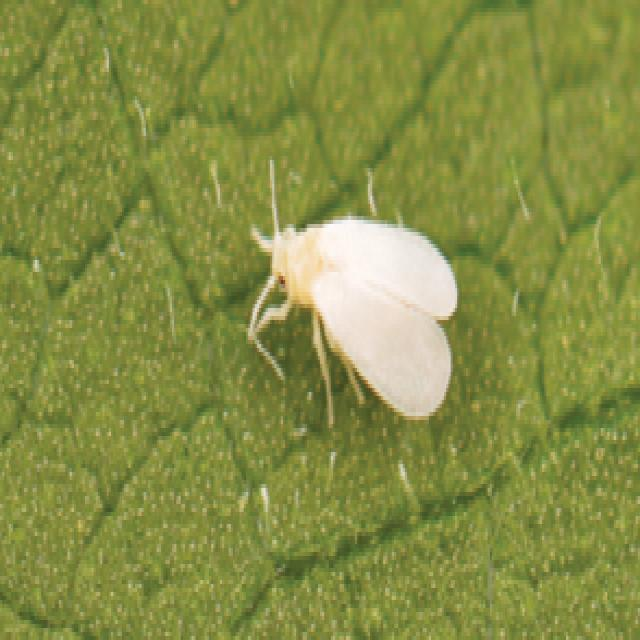Whitefly: (236, 146, 468, 450)
